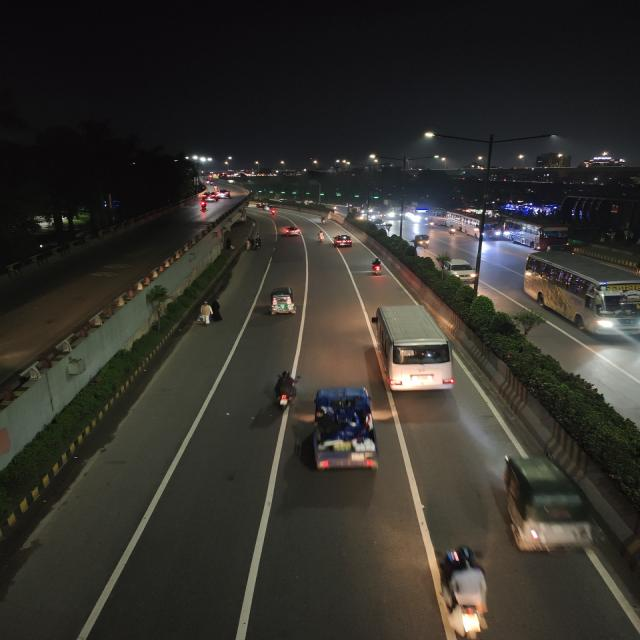bus: (523, 246, 640, 339), (366, 300, 460, 392), (507, 218, 567, 252), (459, 213, 505, 243), (404, 206, 430, 224)
car: (446, 256, 480, 290), (332, 234, 355, 251), (282, 224, 302, 239), (203, 192, 218, 202), (218, 190, 232, 200)
cng: (269, 284, 299, 318), (412, 233, 436, 252)
motorcycle: (266, 368, 296, 413), (366, 258, 384, 280), (197, 198, 209, 214), (447, 224, 457, 238), (318, 230, 326, 245), (319, 215, 327, 226), (428, 218, 435, 228)
pedestrian: (196, 302, 216, 332), (205, 300, 221, 326), (224, 238, 235, 251), (246, 238, 252, 252), (250, 238, 254, 250), (256, 234, 260, 238)
pickup_van: (312, 383, 387, 472)
